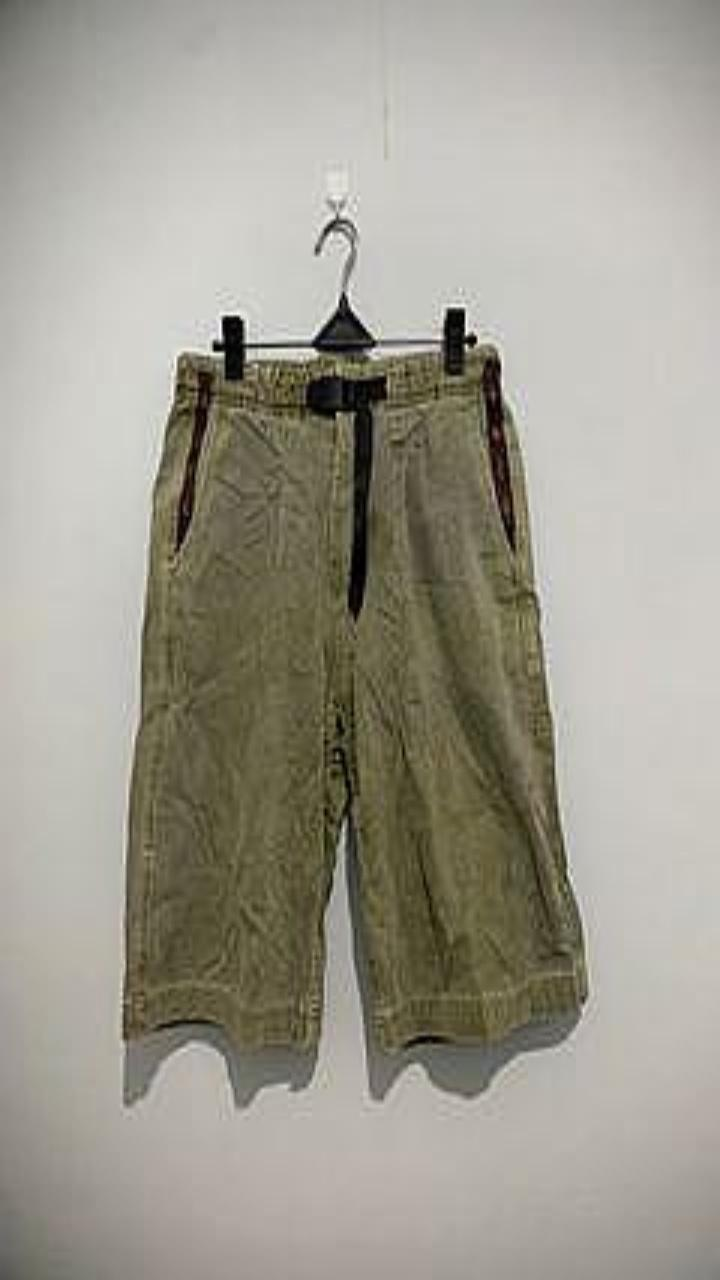Shorts: (122, 342, 587, 1050)
